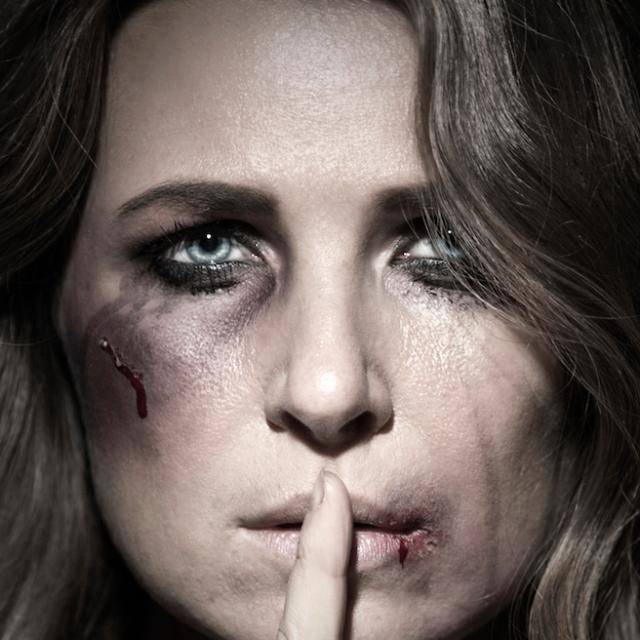Depress: (52, 11, 589, 639)
